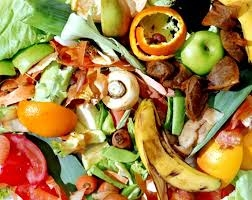kitchen_waste: (129, 97, 228, 194), (53, 118, 142, 193), (1, 130, 70, 200), (12, 95, 88, 142), (125, 4, 184, 64), (193, 126, 246, 188), (178, 24, 227, 77), (165, 64, 208, 119), (9, 38, 61, 77), (99, 69, 141, 111), (97, 1, 136, 40), (204, 54, 243, 92), (161, 90, 189, 136), (74, 172, 100, 195), (109, 129, 132, 147)
